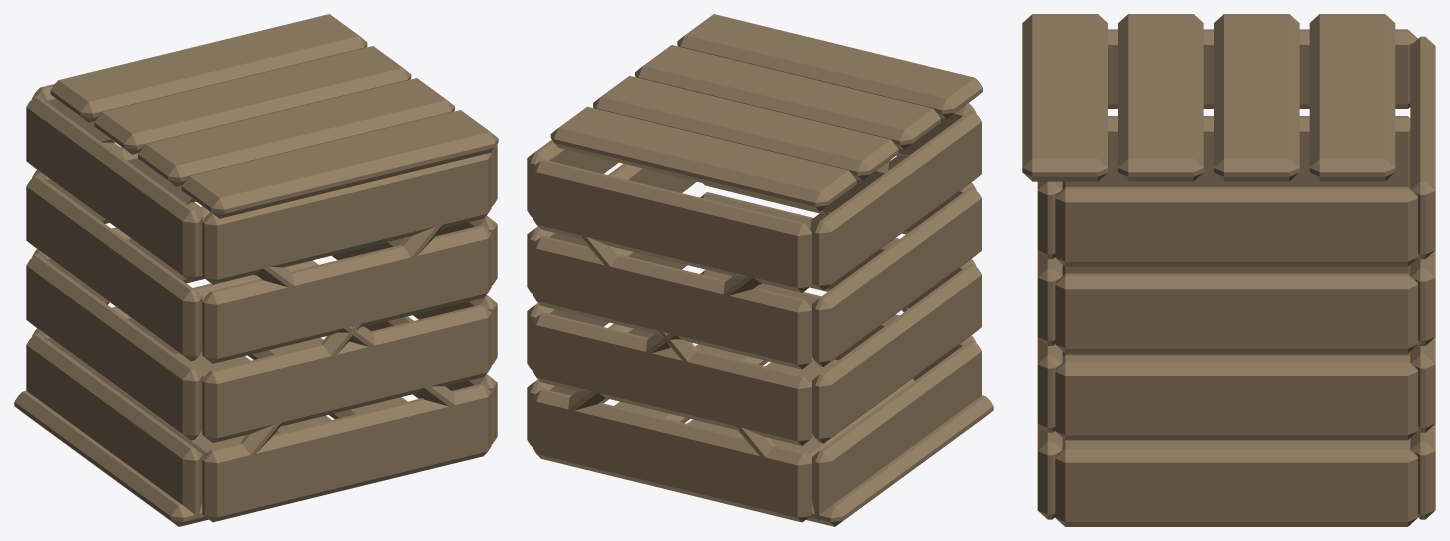
Rendered from courtyard_crate.glb.
3 renders of one model, left to right at view 1: azimuth 30°, elevation 25°; view 2: azimuth 150°, elevation 25°; view 3: azimuth 270°, elevation 25°, orthographic. The views are drawn at different scales.
Parts seen in each view (by area): view 1: CrateFront_0; view 2: CrateFront_0; view 3: CrateFront_0.
Part boxes in pixels (x1,y1,x2,y2): CrateFront_0: (14,14,498,526); CrateFront_0: (527,14,993,526); CrateFront_0: (1022,14,1435,526).
Bounding box in the file's own units: 0.82 × 0.8 × 0.82.
